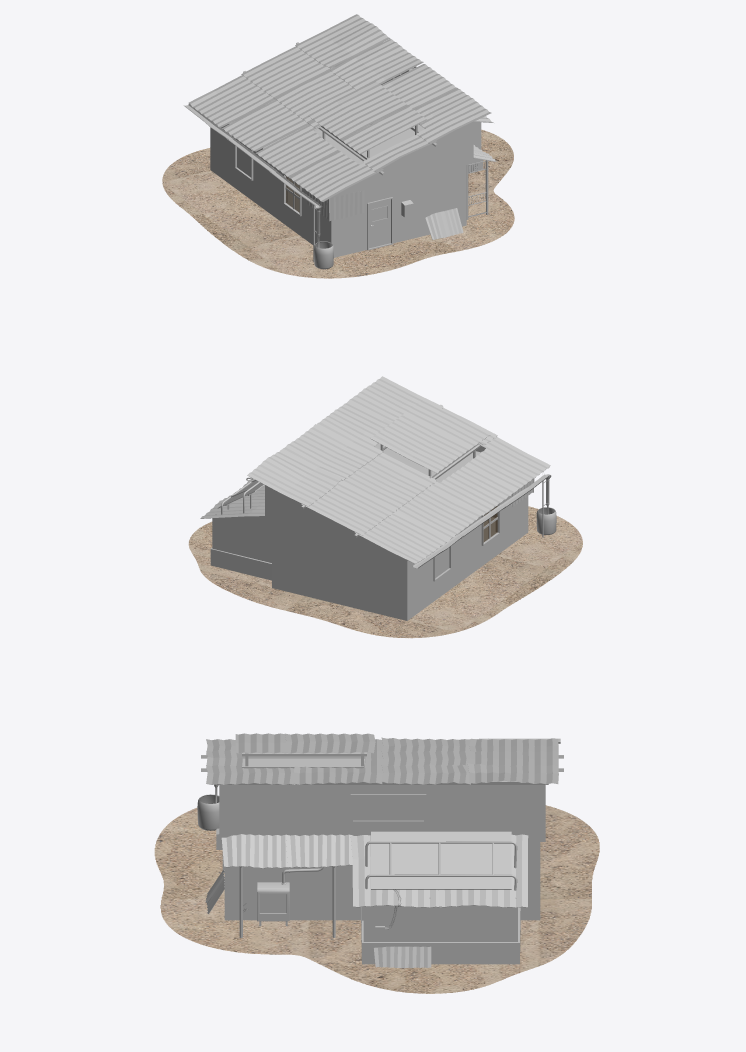
The picture shows the model from 3 angles, top to bottom: view 1: azimuth 30°, elevation 25°; view 2: azimuth 150°, elevation 25°; view 3: azimuth 270°, elevation 25°; orthographic projection. The views are drawn at different scales.
Parts seen in each view (by area): view 1: Plane_34, Wall_0, Cube.007_47, Cube.011_18, Cube.008_48, Cube.009_49, Cube.006_17, Cube.037_36, Cube.044_38, Cube.033_25, Door_4; view 2: Wall_0, Plane_34, Cube.011_18, Cube.007_47, Cube.008_48, Cube.009_49, Cube.006_17, Cube.027_24, Cube.037_36; view 3: Plane_34, Cube.006_17, Wall_0, Cube.049_40, Cube.011_18, Cube.027_24, Cube.010_50, Cube.008_48, Cube.009_49, Cube.007_47, Cube.024_23, Cylinder.007_42 (+7 smaller).
Part boxes in pixels (x1,y1,x2,y2): Plane_34: [162, 129, 514, 278]; Wall_0: [210, 122, 483, 257]; Cube.007_47: [188, 75, 383, 201]; Cube.011_18: [295, 14, 491, 143]; Cube.008_48: [241, 46, 437, 171]; Cube.009_49: [308, 81, 427, 154]; Cube.006_17: [227, 61, 473, 197]; Cube.037_36: [183, 104, 319, 206]; Cube.044_38: [425, 208, 463, 239]; Cube.033_25: [329, 190, 364, 221]; Door_4: [369, 199, 390, 248]; Wall_0: [210, 495, 528, 620]; Plane_34: [188, 506, 582, 638]; Cube.011_18: [247, 376, 443, 506]; Cube.007_47: [355, 437, 550, 563]; Cube.008_48: [301, 407, 497, 535]; Cube.009_49: [371, 399, 490, 473]; Cube.006_17: [265, 443, 485, 560]; Cube.027_24: [200, 479, 264, 518]; Cube.037_36: [413, 472, 549, 568]; Plane_34: [154, 805, 599, 993]; Cube.006_17: [216, 758, 548, 841]; Wall_0: [224, 842, 540, 964]; Cube.049_40: [371, 831, 511, 889]; Cube.011_18: [206, 763, 558, 784]; Cube.027_24: [350, 834, 528, 907]; Cube.010_50: [221, 834, 353, 868]; Cube.008_48: [206, 750, 558, 769]; Cube.009_49: [235, 733, 375, 753]; Cube.007_47: [206, 737, 558, 755]; Cube.024_23: [353, 796, 423, 820]; Cylinder.007_42: [365, 841, 517, 890].
Size of the model in its own units: 19.38 by 4.89 by 20.9.
